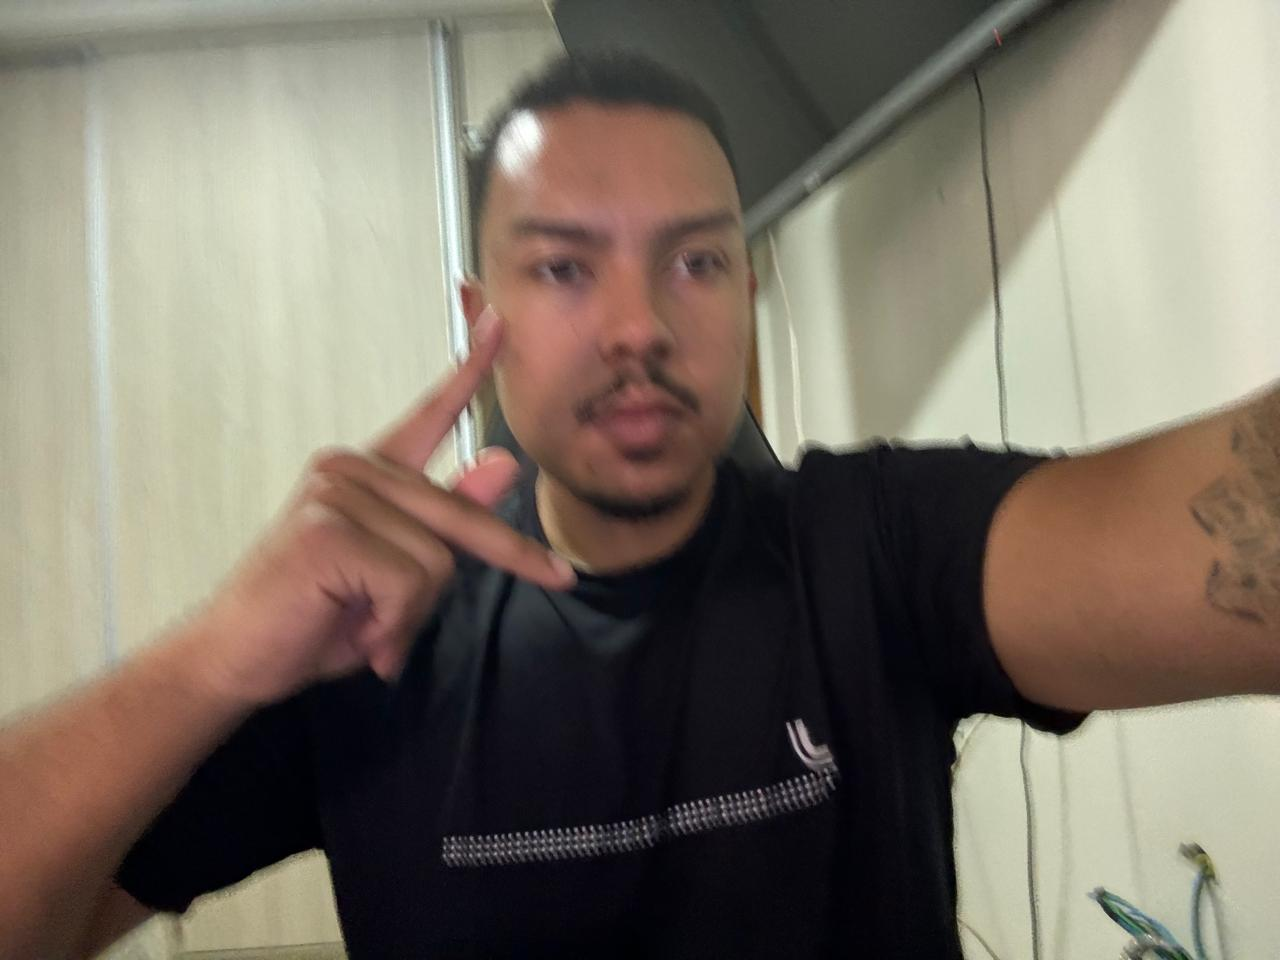p: (205, 294, 581, 728)
